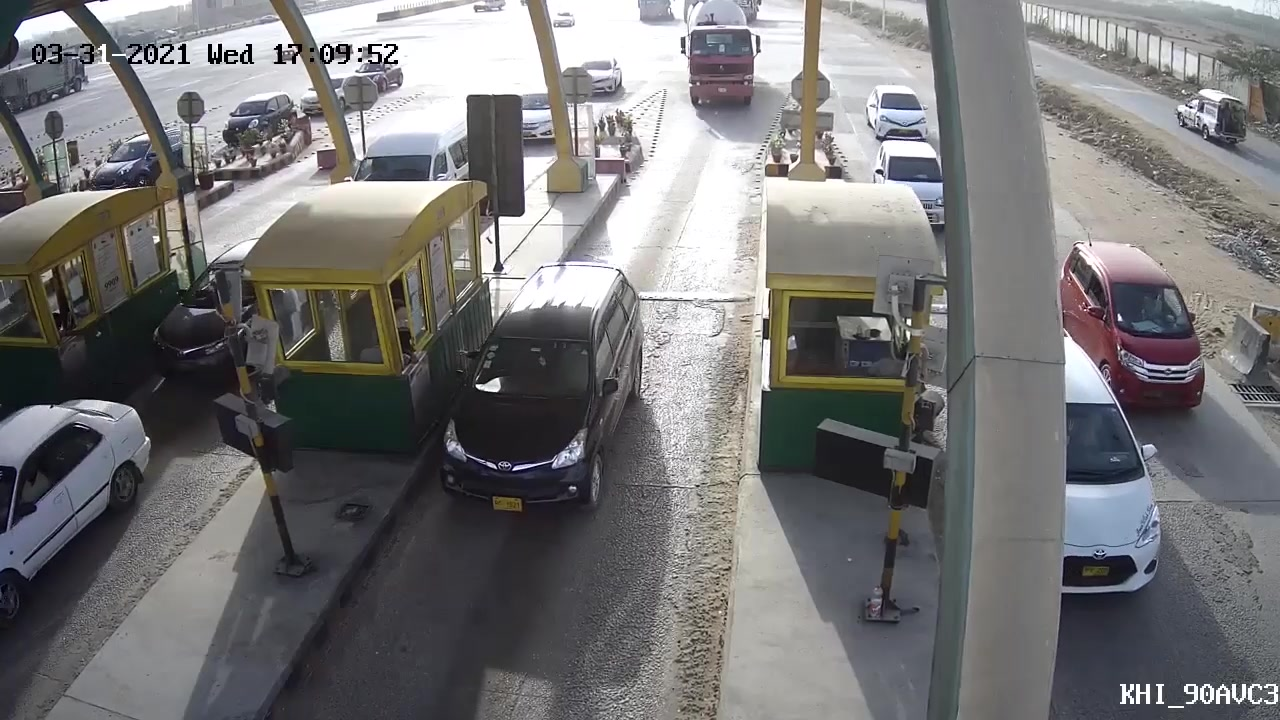F1: (407, 242, 655, 531)
